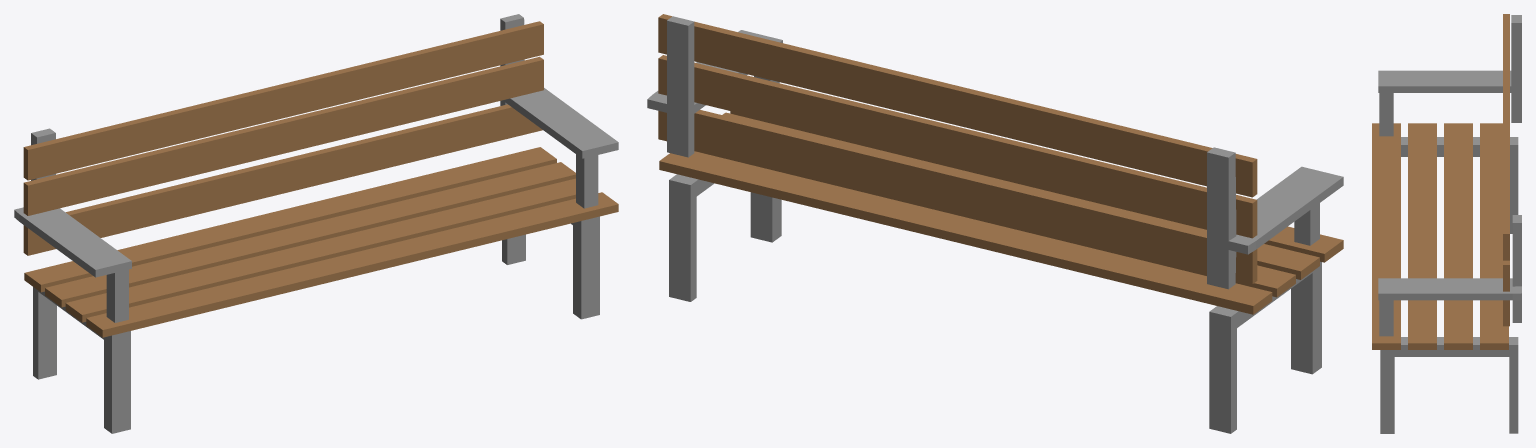
The model's file is ParkBench.fbx.
The picture shows the model from 3 angles, left to right: view 1: azimuth 30°, elevation 25°; view 2: azimuth 150°, elevation 25°; view 3: azimuth 270°, elevation 25°; orthographic projection. The views are drawn at different scales.
Visible parts, largest first — view 1: ParkBanch; view 2: ParkBanch; view 3: ParkBanch.
Part boxes in pixels (box(x1,y1,x2,y2)): ParkBanch: box(14, 14, 618, 433); ParkBanch: box(647, 14, 1343, 433); ParkBanch: box(1372, 14, 1521, 433).
Bounding box in the file's own units: 2.35 × 0.6671 × 1.04.
